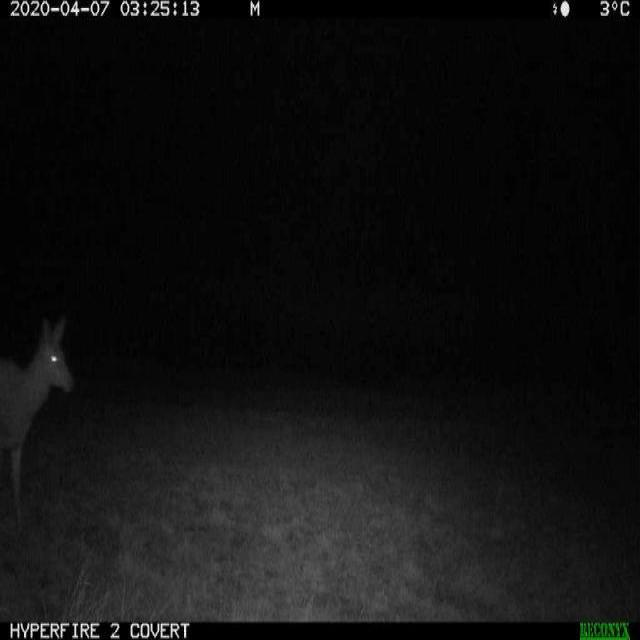deer: (0, 306, 86, 554)
